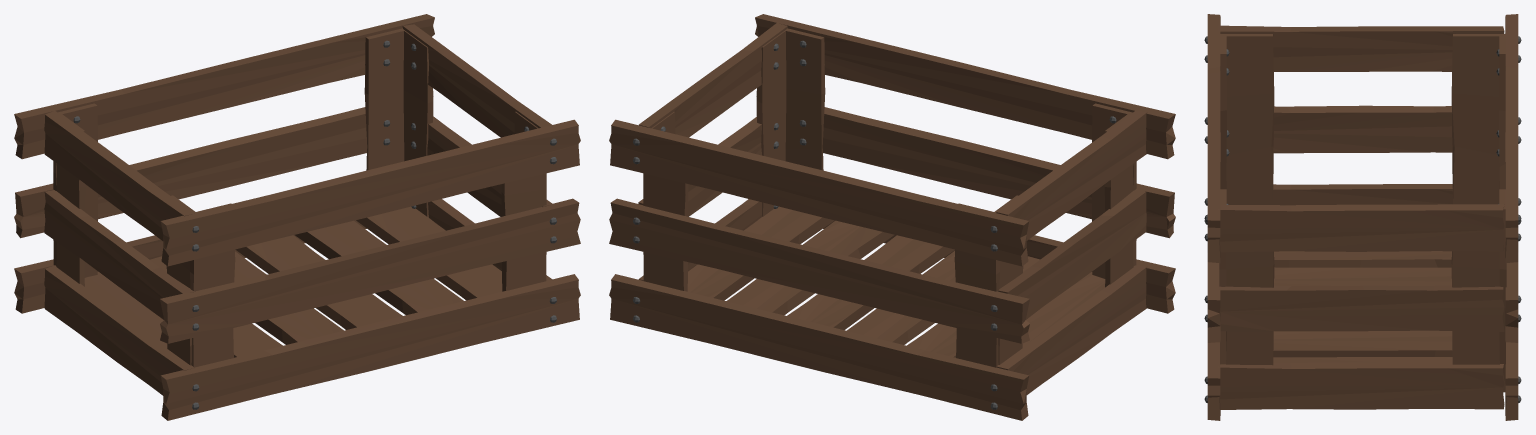
File: Хранилище для камней.fbx
3 renders of one model, left to right at view 1: azimuth 30°, elevation 25°; view 2: azimuth 150°, elevation 25°; view 3: azimuth 270°, elevation 25°, orthographic. The views are drawn at different scales.
Visible parts, largest first — view 1: Cube; view 2: Cube; view 3: Cube.
Part boxes in pixels (x1,y1,x2,y2): Cube: [14, 14, 580, 420]; Cube: [609, 14, 1175, 420]; Cube: [1204, 14, 1521, 420].
Size of the model in its own units: 523 by 236 by 339.
